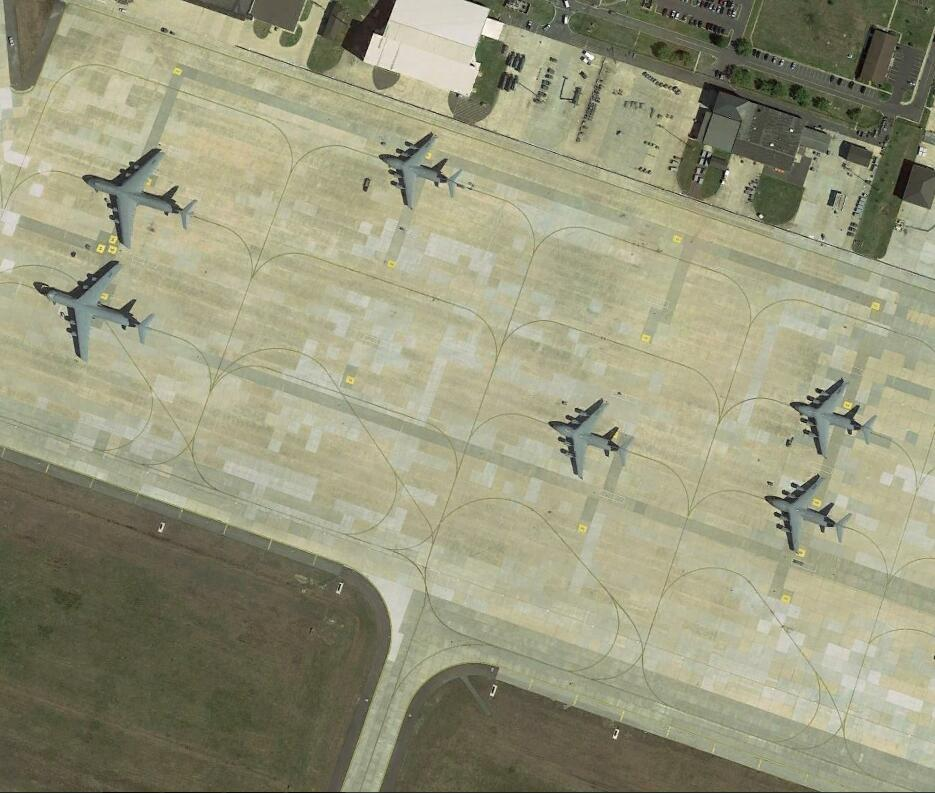A3: (764, 473, 853, 555), (790, 379, 877, 459), (378, 128, 462, 209), (546, 399, 630, 478)
A4: (83, 144, 200, 250), (40, 266, 154, 362)
